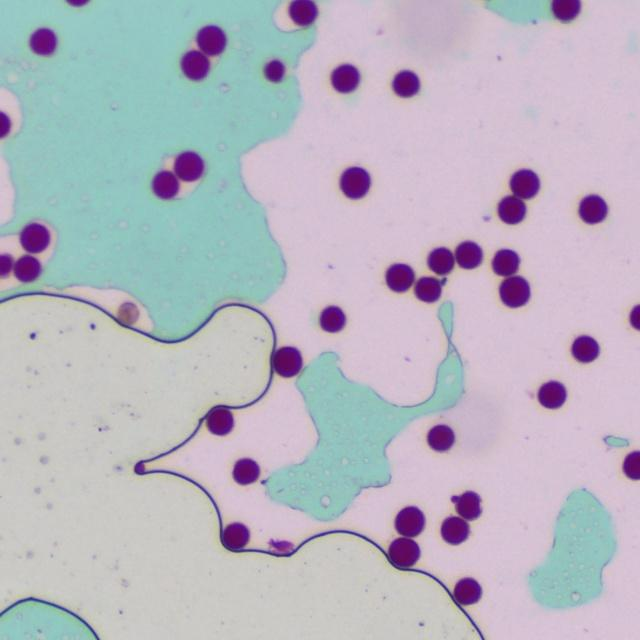viable: (394, 506, 425, 537), (340, 166, 370, 198), (499, 276, 529, 307), (174, 151, 204, 181), (273, 346, 302, 377), (510, 168, 539, 198), (197, 25, 226, 55), (20, 223, 49, 252), (389, 538, 419, 566), (181, 50, 209, 80), (386, 263, 414, 291), (579, 195, 607, 223), (331, 64, 359, 92), (498, 195, 525, 224), (152, 170, 179, 199), (538, 381, 566, 408), (454, 577, 481, 605), (441, 516, 468, 544), (392, 70, 419, 97), (14, 255, 41, 282), (492, 249, 519, 276), (289, 0, 317, 26), (428, 247, 454, 274), (30, 28, 56, 55), (207, 407, 233, 434), (455, 241, 481, 268), (427, 425, 454, 451), (223, 522, 249, 549), (572, 336, 598, 362), (414, 277, 441, 302), (320, 306, 345, 332), (233, 458, 259, 483), (456, 491, 479, 519), (552, 0, 580, 20), (263, 59, 285, 82), (622, 451, 639, 479), (0, 253, 13, 276), (0, 111, 10, 138), (629, 305, 639, 330)
